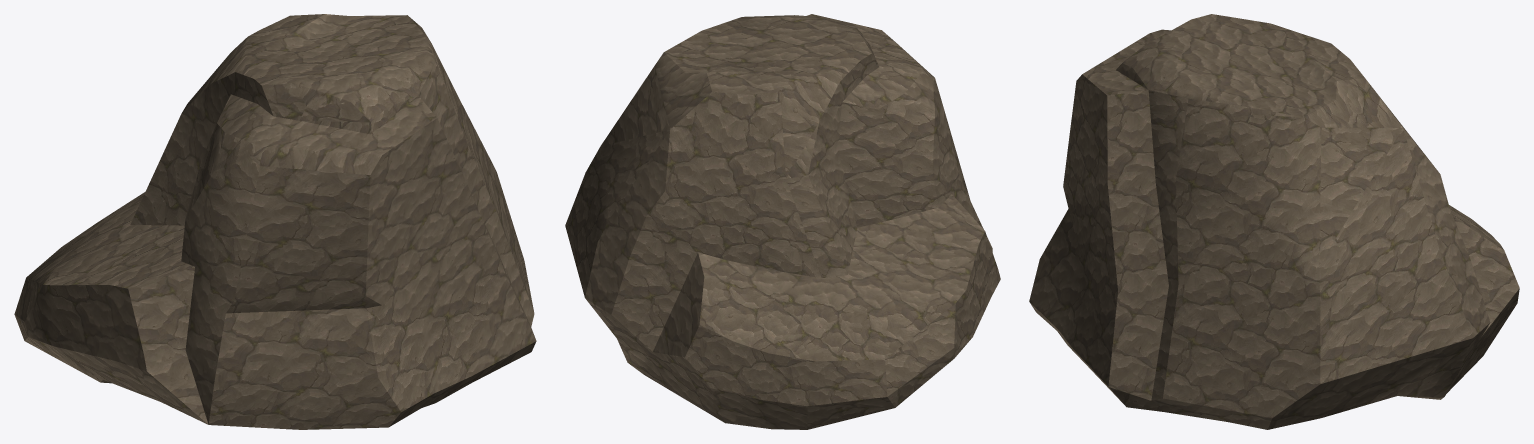
File: grock_medium_1.glb
The picture shows the model from 3 angles, left to right: view 1: azimuth 30°, elevation 25°; view 2: azimuth 150°, elevation 25°; view 3: azimuth 270°, elevation 25°; orthographic projection. The views are drawn at different scales.
Parts seen in each view (by area): view 1: model; view 2: model; view 3: model.
Boxes of the visible parts, x1,y1,x2,y2 form: model: (14, 14, 536, 429); model: (565, 14, 1000, 429); model: (1029, 14, 1519, 429).
Bounding box in the file's own units: 3.23 × 2.26 × 3.01.
Materials: 1 (1 with a texture image).
